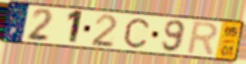1: (65, 10, 84, 47)
2: (91, 12, 119, 48), (27, 8, 55, 43)
9: (160, 19, 187, 54)
C: (123, 17, 151, 50)
R: (185, 20, 221, 58)
